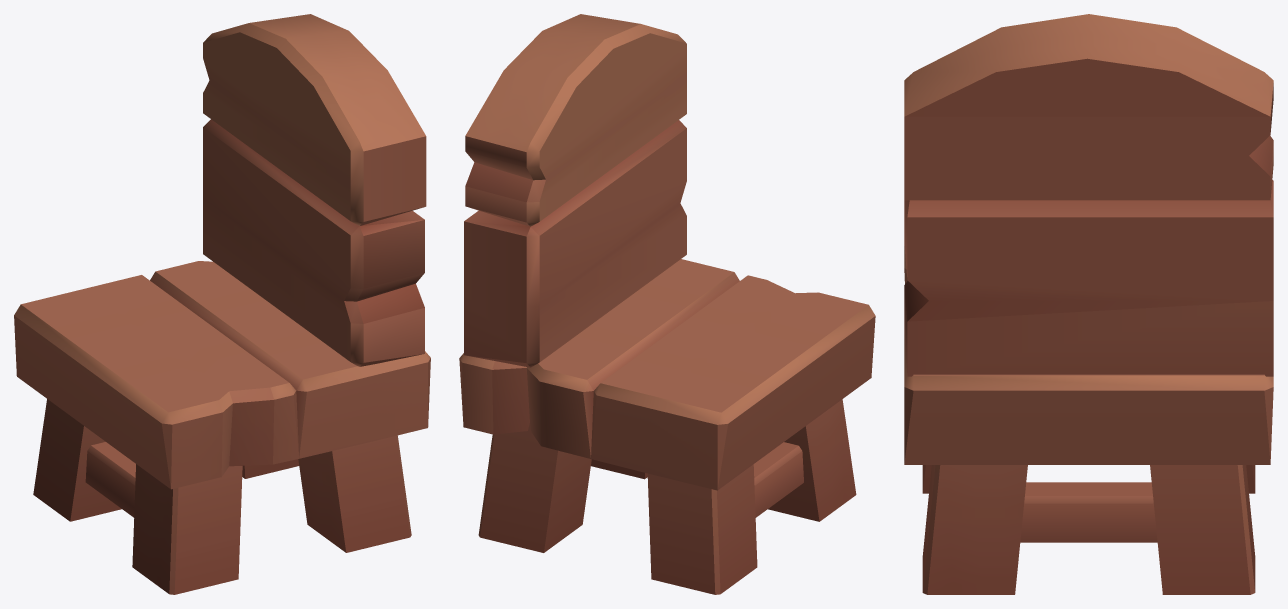
File: d_kaykit_chaise.glb
3 renders of one model, left to right at view 1: azimuth 30°, elevation 25°; view 2: azimuth 150°, elevation 25°; view 3: azimuth 270°, elevation 25°, orthographic. The views are drawn at different scales.
Visible parts, largest first — view 1: d_kaykit_chaise; view 2: d_kaykit_chaise; view 3: d_kaykit_chaise.
Boxes of the visible parts, bbox=[...] form: d_kaykit_chaise: bbox=[14, 14, 430, 594]; d_kaykit_chaise: bbox=[459, 14, 875, 594]; d_kaykit_chaise: bbox=[904, 14, 1273, 594].
Size of the model in its own units: 0.75 by 1.23 by 0.75.
Materials: 1 (1 with a texture image).
